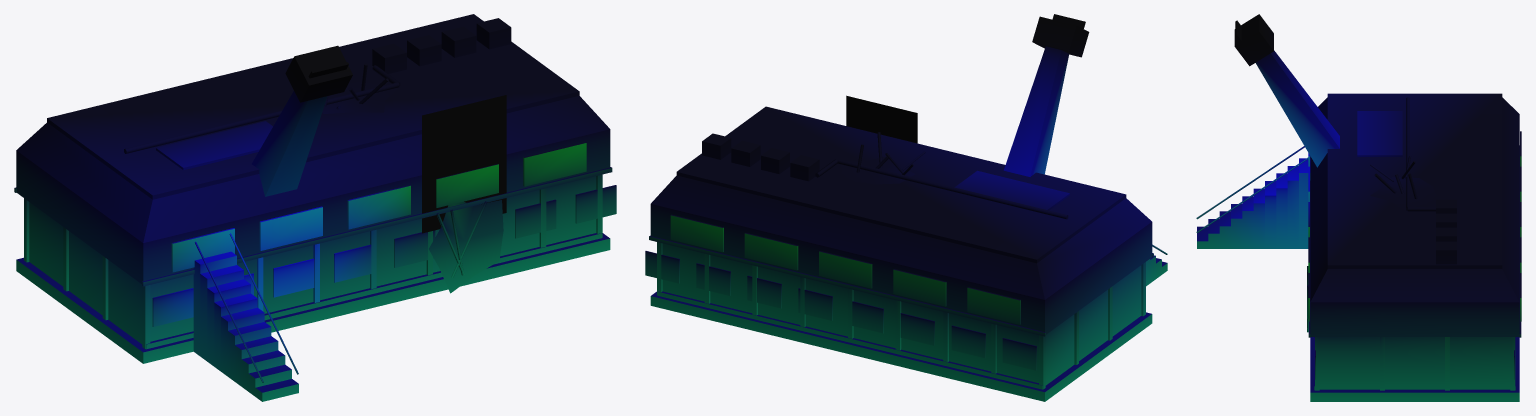
File: terminal1_damaged.glb
3 views of the same model, side by side, from view 1: azimuth 30°, elevation 25°; view 2: azimuth 150°, elevation 25°; view 3: azimuth 270°, elevation 25° (orthographic). The views are drawn at different scales.
Parts seen in each view (by area): view 1: lod0; view 2: lod0; view 3: lod0.
Part boxes in pixels (<box>): lod0: <box>14,14,616,401</box>; lod0: <box>645,14,1167,401</box>; lod0: <box>1196,14,1521,401</box>.
Size of what is drawn, in the model's own units: 26.05 by 15.9 by 18.64.
